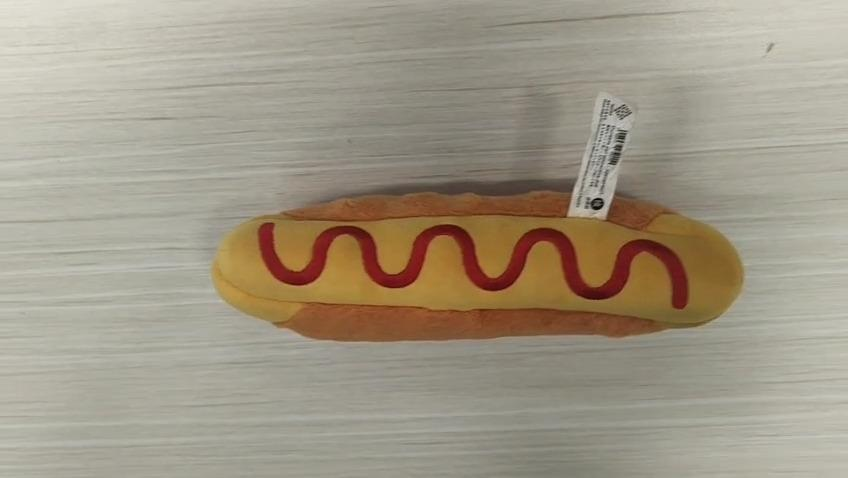hotdog: (210, 187, 745, 342)
